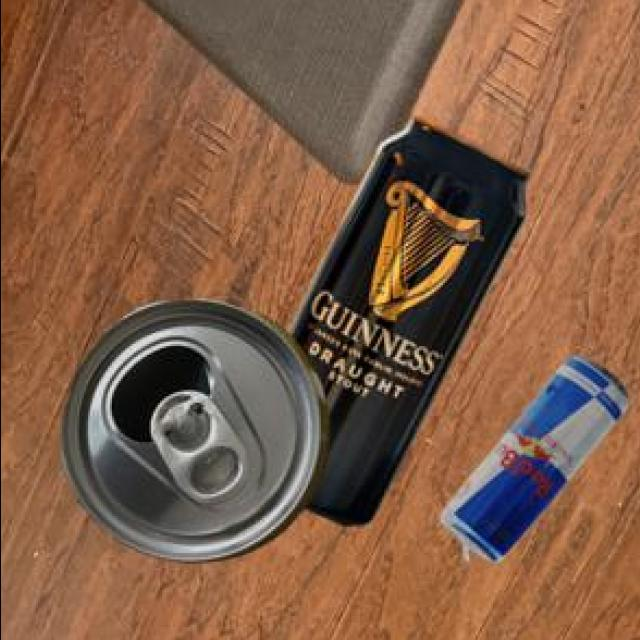logam: (284, 121, 526, 528), (58, 304, 325, 565), (436, 360, 624, 567)
